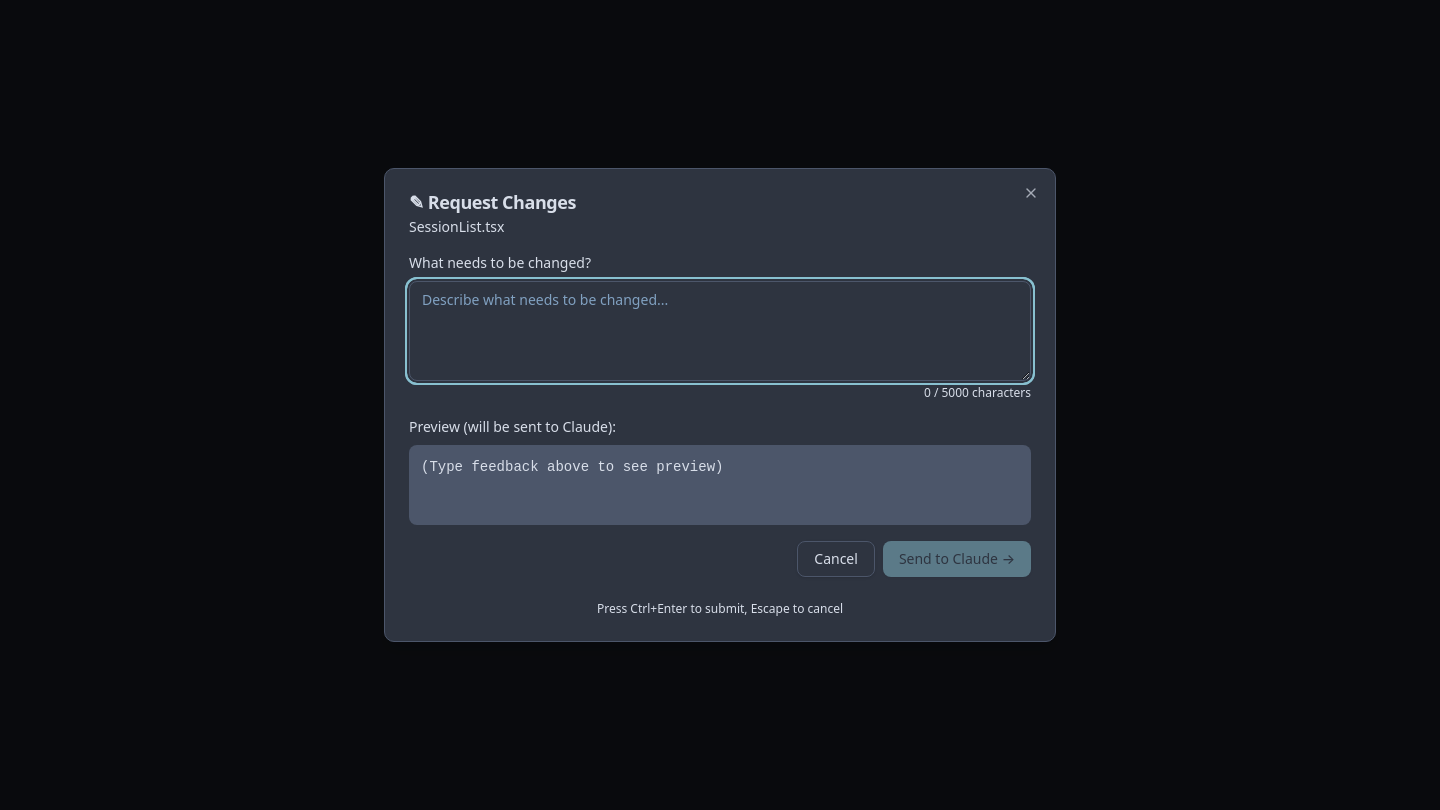
Test case: RequestChangesModal › should show character counter
Check: the text "0 / 5000 characters" is shown, box [924, 384, 1031, 401]
Note: Type some text
Type "Test feedback" into the text box with placeholder "Describe what needs to be changed..." at (720, 331), box [409, 281, 1031, 381]
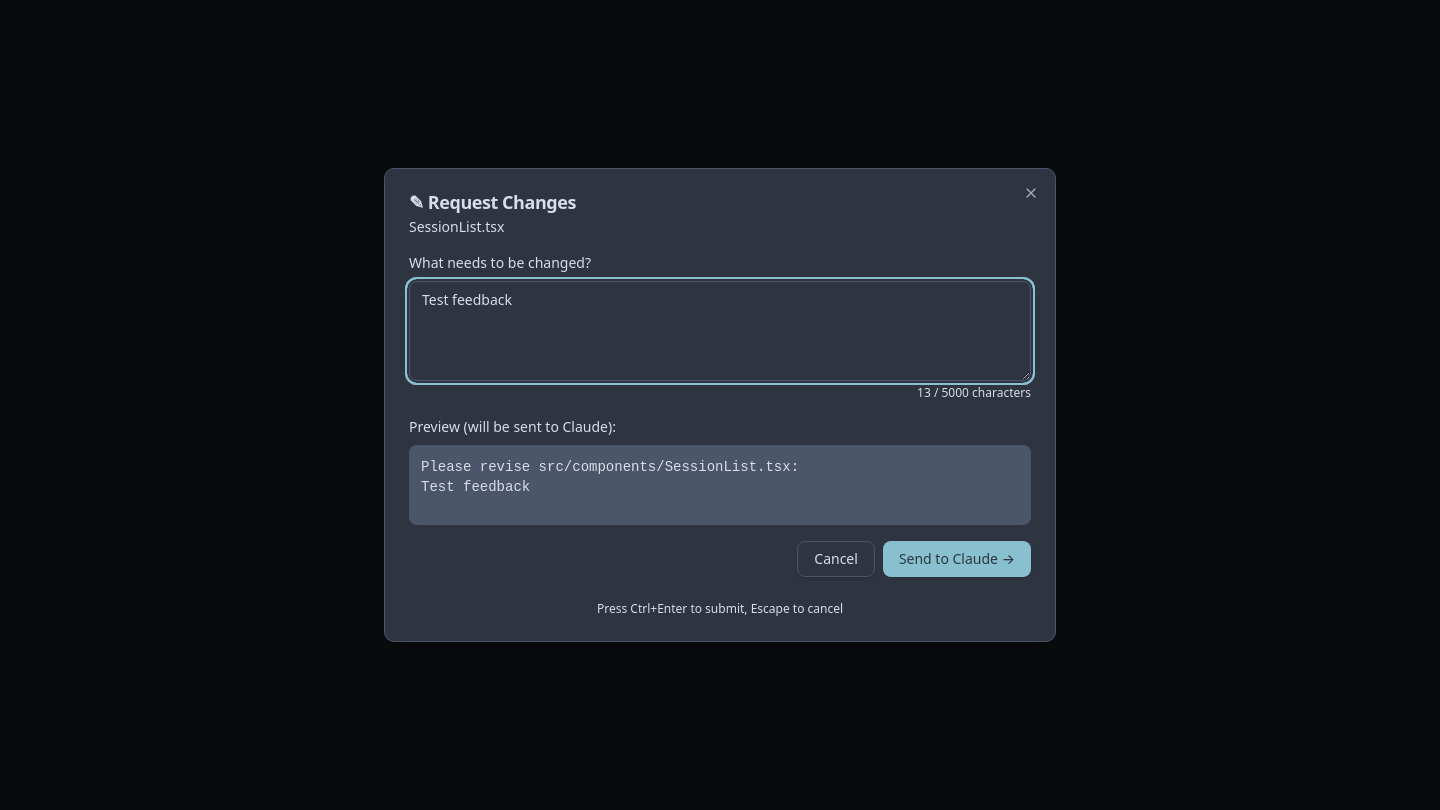
Check: the text "13 / 5000 characters" is shown, box [917, 384, 1031, 401]
